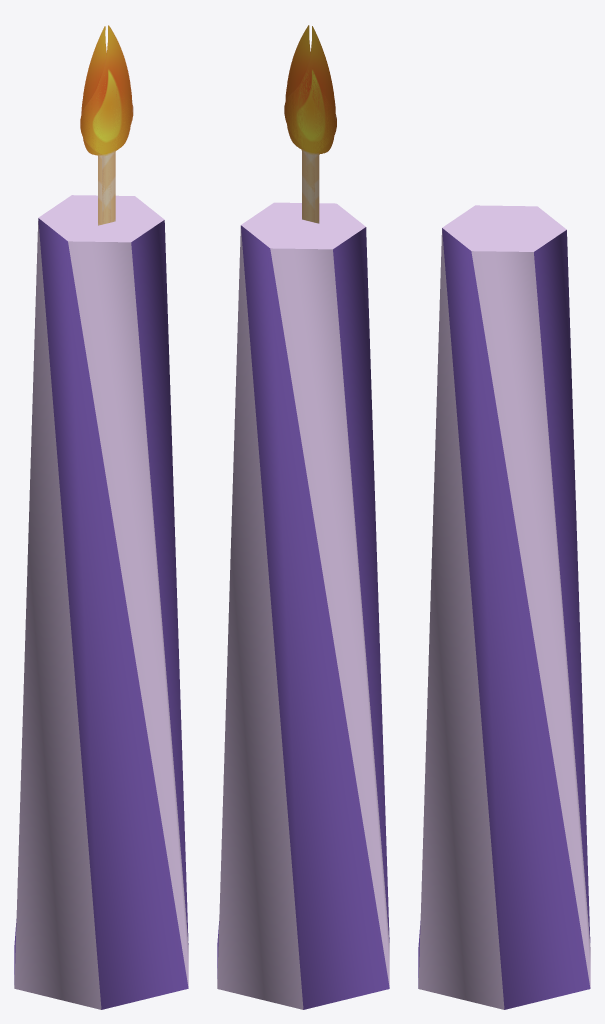
Rendered from Candle_B_01.FBX.
3 renders of one model, left to right at view 1: azimuth 30°, elevation 25°; view 2: azimuth 150°, elevation 25°; view 3: azimuth 270°, elevation 25°, orthographic.
Visible parts, largest first — view 1: Candle; view 2: Candle; view 3: Candle.
Boxes of the visible parts, box(x1,y1,x2,y2) form: Candle: box(14, 25, 188, 1009); Candle: box(217, 25, 389, 1009); Candle: box(418, 205, 590, 1009).
Size of the model in its own units: 7.85 by 40.96 by 6.8.
